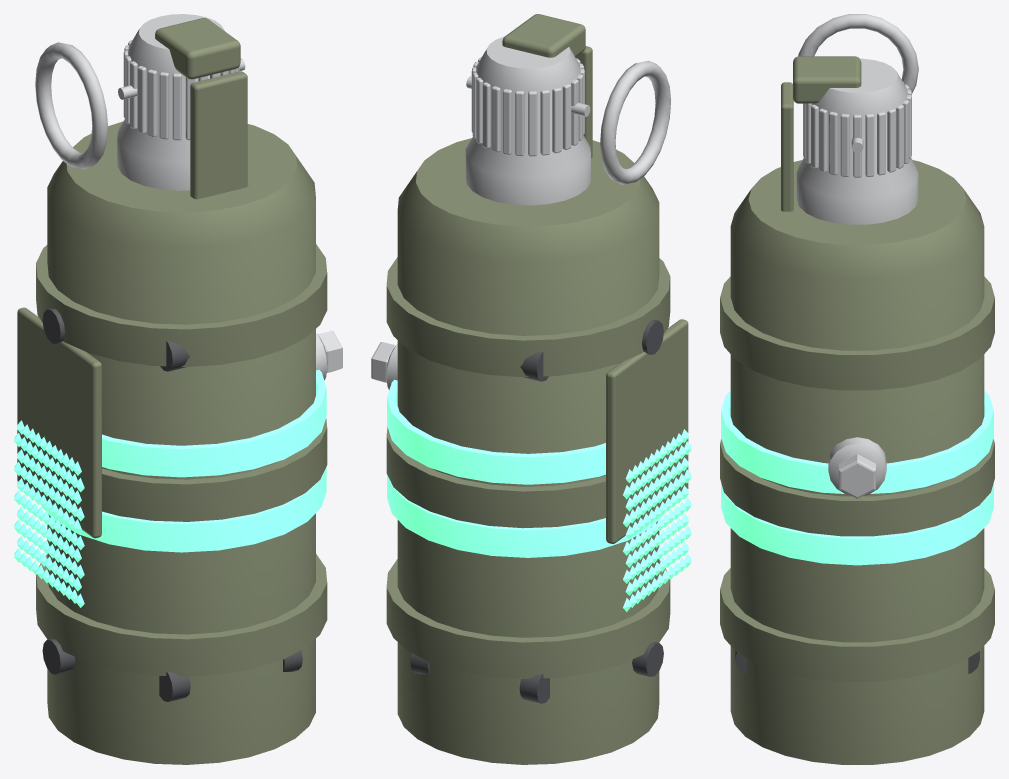
File: mega-weapon-pack-smoke-grenade-e056327e__33356.glb
3 renders of one model, left to right at view 1: azimuth 30°, elevation 25°; view 2: azimuth 150°, elevation 25°; view 3: azimuth 270°, elevation 25°, orthographic. The views are drawn at different scales.
Parts seen in each view (by area): view 1: smoke-grenade; view 2: smoke-grenade; view 3: smoke-grenade.
Part boxes in pixels (x1,y1,x2,y2): smoke-grenade: (14, 14, 342, 764); smoke-grenade: (371, 14, 691, 764); smoke-grenade: (720, 14, 994, 764).
Bounding box in the file's own units: 0.0645 × 0.1465 × 0.0564.
